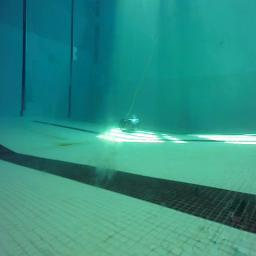Full: (120, 118, 141, 134)
